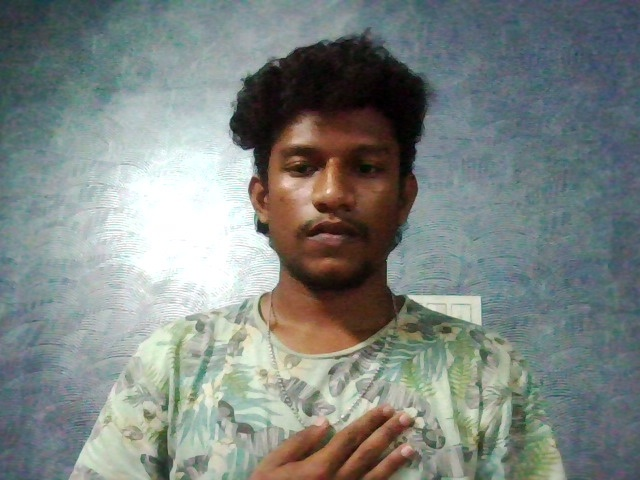please: (196, 387, 467, 480)
